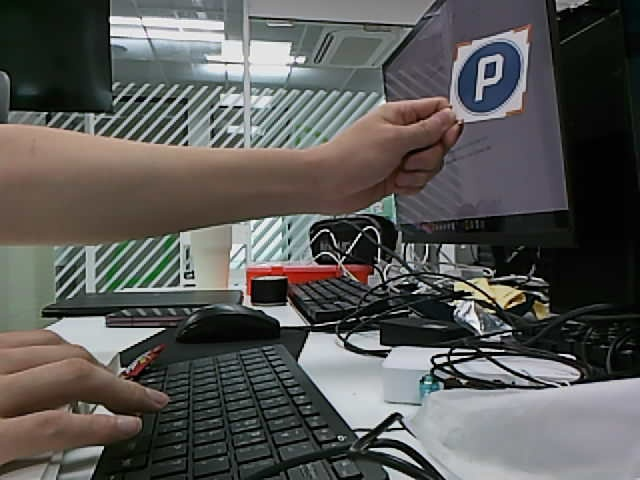park: (455, 41, 523, 115)
